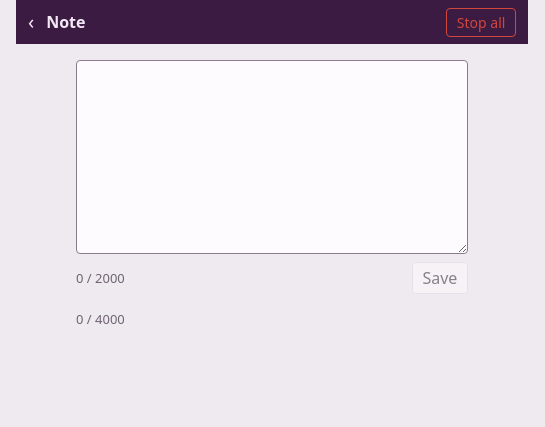
it: a refusal can be dismissed
In the text box named "Note": [272, 157] box [76,60,468,254], type "x"
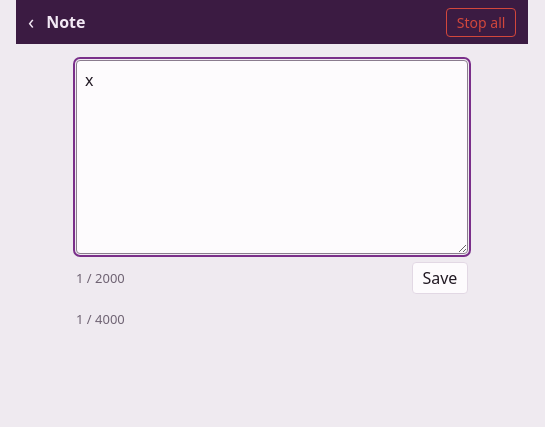
Click the button "Save": [440, 278] box [412,262,468,294]
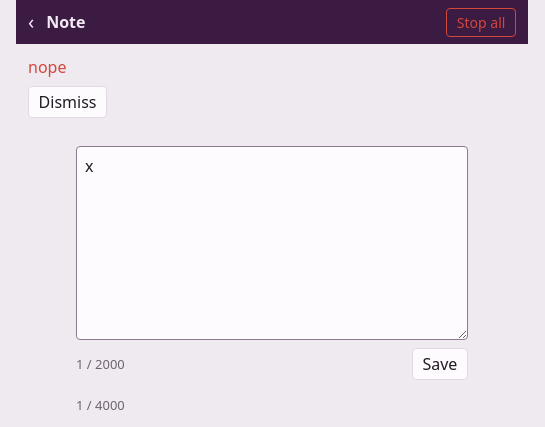
expect the message "nope" is shown: met, box [28,56,66,78]
Click the button "Dismiss": [68, 102] box [28,86,107,118]
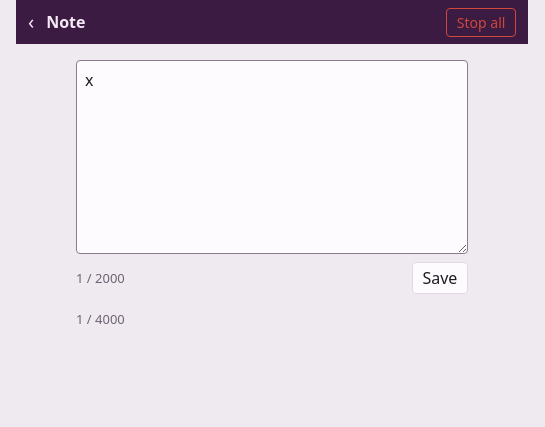
expect the message "nope" is gone: met
